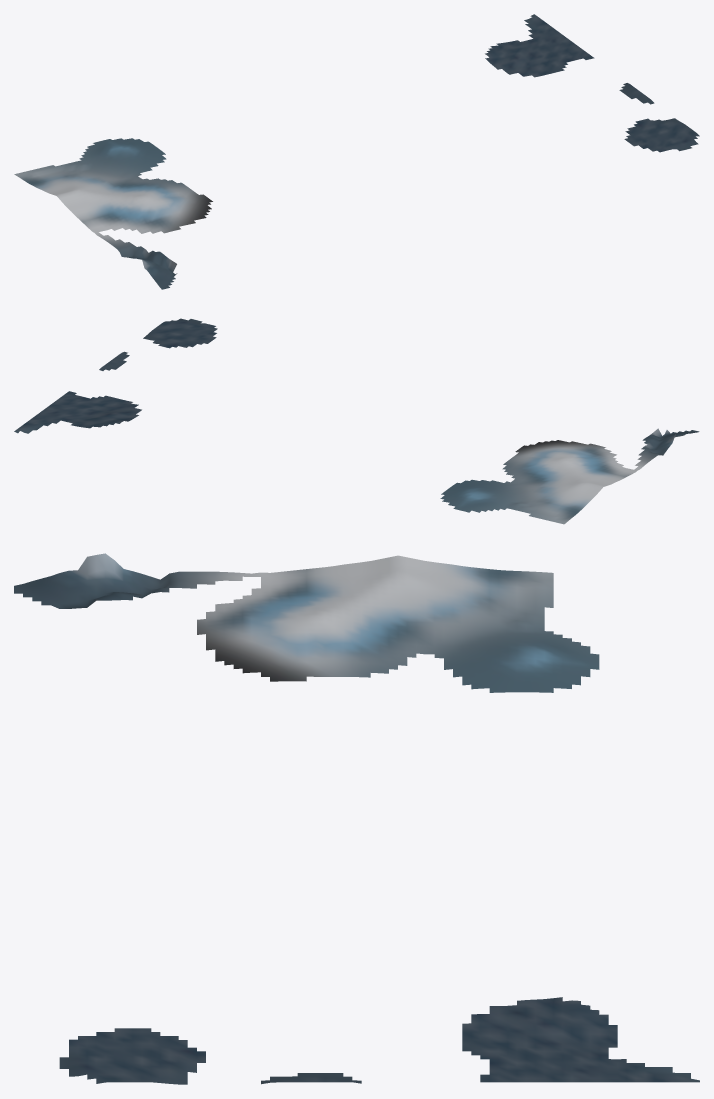
File: frost_tile_x3z1.glb
3 views of the same model, one above another, from view 1: azimuth 30°, elevation 25°; view 2: azimuth 150°, elevation 25°; view 3: azimuth 270°, elevation 25° (orthographic). The views are drawn at different scales.
Visible parts, largest first — view 1: frost_tile_x3z1; view 2: frost_tile_x3z1; view 3: frost_tile_x3z1.
Part boxes in pixels (x1,y1,x2,y2): frost_tile_x3z1: (14, 14, 699, 289); frost_tile_x3z1: (14, 318, 699, 524); frost_tile_x3z1: (14, 553, 699, 1084).
Size of the model in its own units: 968 by 29.36 by 562.
